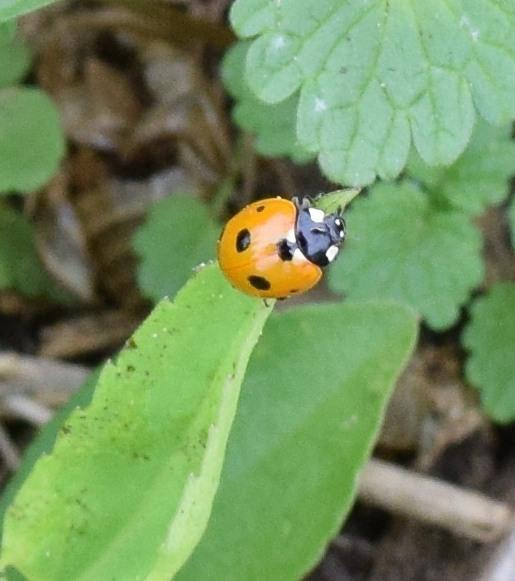ladybug: (216, 193, 351, 309)
